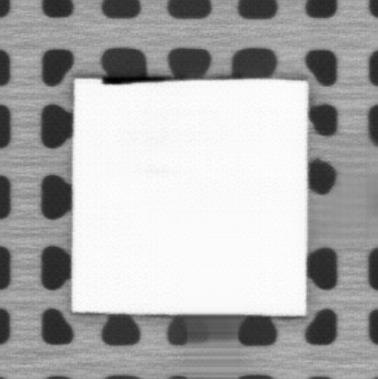DIE_BROKEN: (101, 74, 174, 85)
